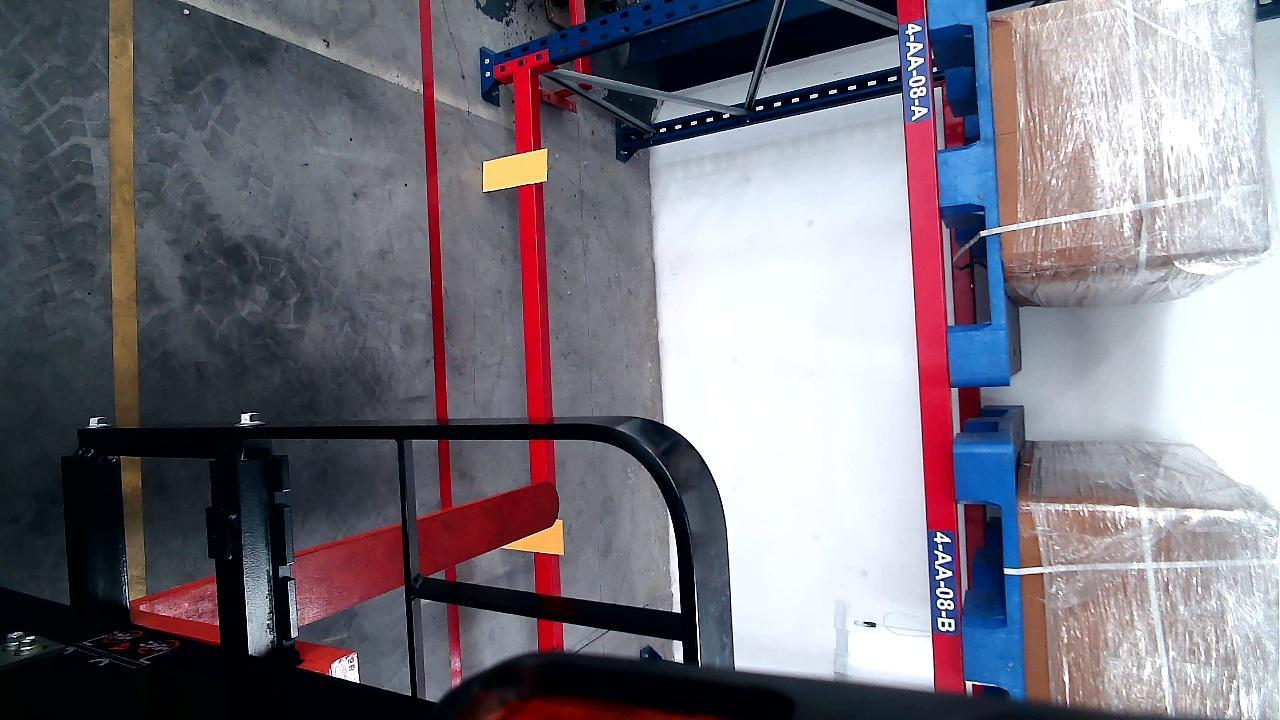red_line: (417, 0, 462, 689)
yellow_line: (110, 0, 147, 603)
